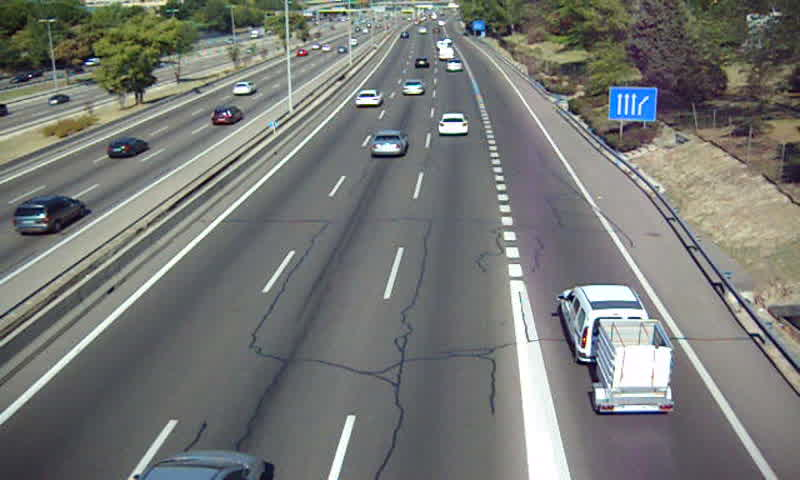car: (369, 130, 408, 157), (438, 113, 469, 136), (354, 89, 382, 109), (401, 79, 426, 96), (446, 59, 464, 73), (413, 57, 430, 71)
van: (561, 285, 648, 366)
